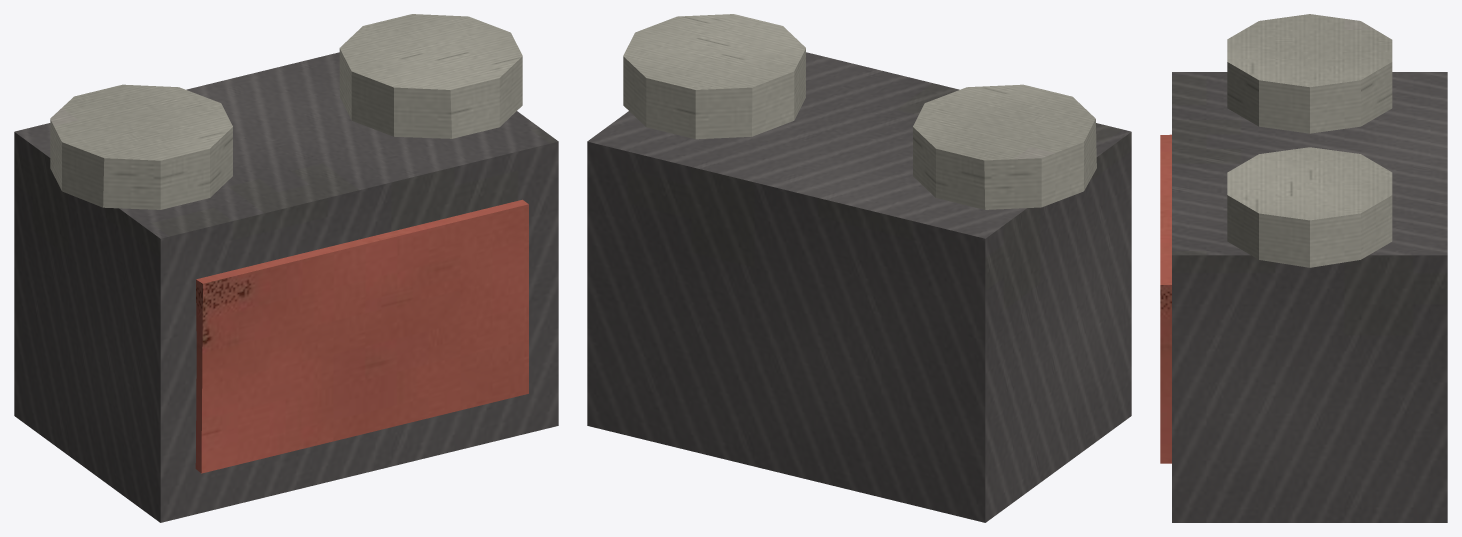
The model's file is alarmclock_v2.glb.
3 views of the same model, side by side, from view 1: azimuth 30°, elevation 25°; view 2: azimuth 150°, elevation 25°; view 3: azimuth 270°, elevation 25° (orthographic). The views are drawn at different scales.
Visible parts, largest first — view 1: Variant_alarmclock_2; view 2: Variant_alarmclock_2; view 3: Variant_alarmclock_2.
Part boxes in pixels (x1,y1,x2,y2): Variant_alarmclock_2: (14,14,558,522); Variant_alarmclock_2: (587,14,1131,522); Variant_alarmclock_2: (1160,14,1447,522).
Size of the model in its own units: 0.1246 by 0.088 by 0.073.
Materials: 3 (3 with a texture image).
